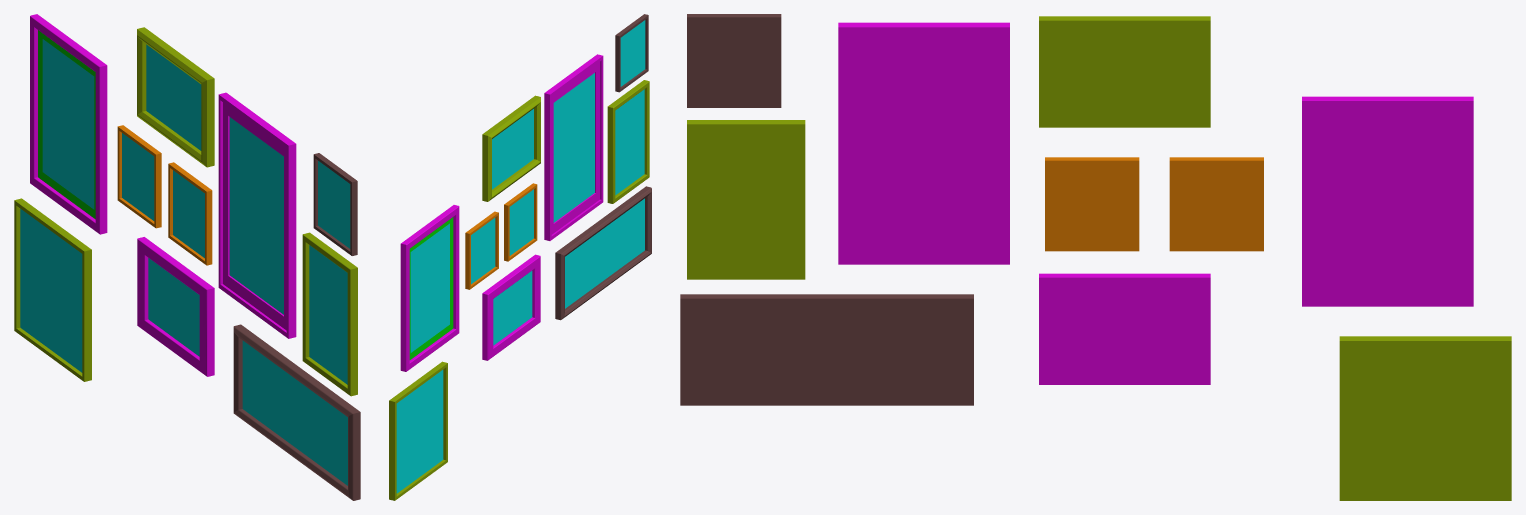
3 renders of one model, left to right at view 1: azimuth 30°, elevation 25°; view 2: azimuth 150°, elevation 25°; view 3: azimuth 270°, elevation 25°, orthographic. The views are drawn at different scales.
Parts seen in each view (by area): view 1: pCube167; view 2: pCube167; view 3: pCube167.
Part boxes in pixels (x1,y1,x2,y2): pCube167: (14, 14, 360, 500); pCube167: (389, 14, 651, 500); pCube167: (680, 14, 1511, 500).
Size of the model in its own units: 5.35 by 191 by 298.
